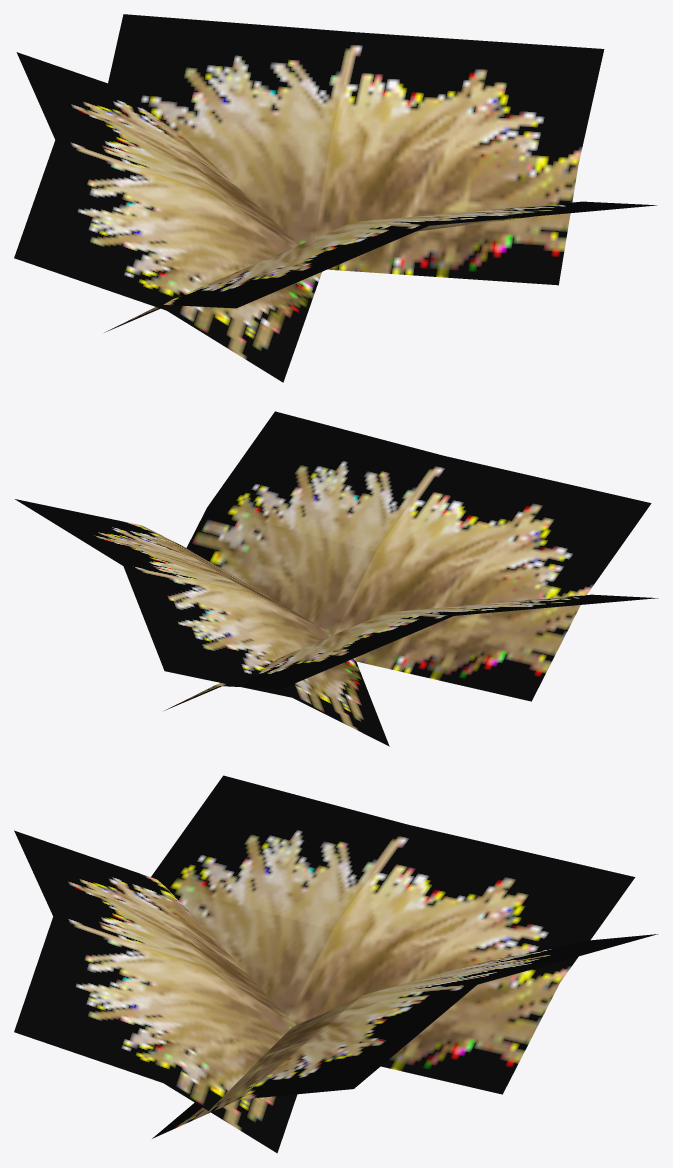
The model's file is mauritania_grass_02.fbx.
3 views of the same model, one above another, from view 1: azimuth 30°, elevation 25°; view 2: azimuth 150°, elevation 25°; view 3: azimuth 270°, elevation 25° (orthographic). The views are drawn at different scales.
Visible parts, largest first — view 1: grass_02; view 2: grass_02; view 3: grass_02.
Boxes of the visible parts, x1,y1,x2,y2 form: grass_02: (14, 14, 656, 382); grass_02: (15, 411, 658, 746); grass_02: (14, 775, 657, 1153).
Bounding box in the file's own units: 68.38 × 13.93 × 59.44.
